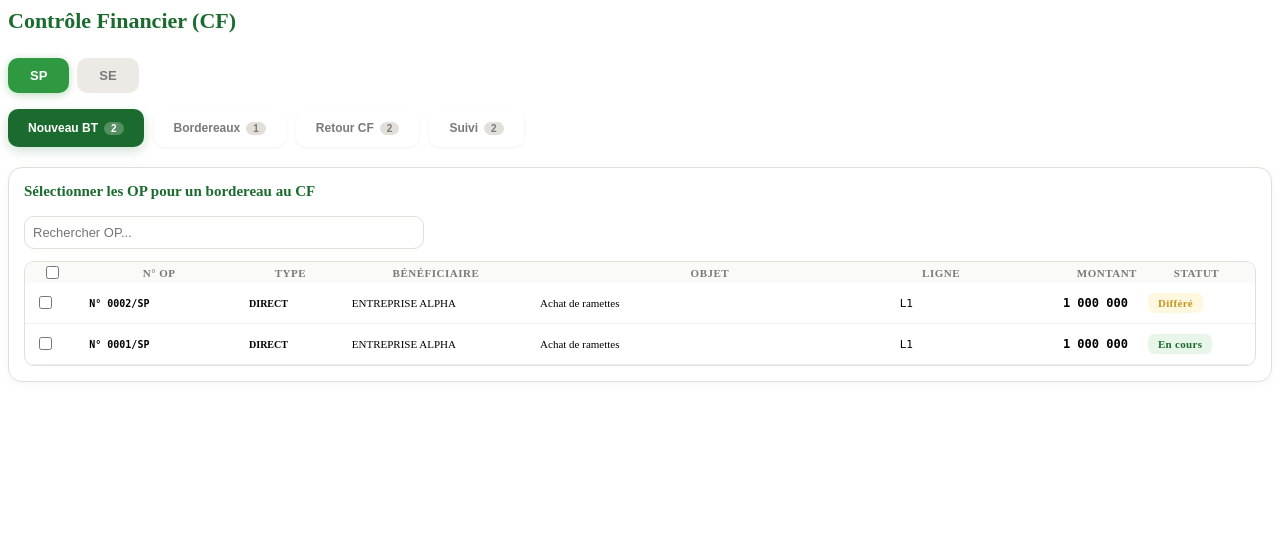
Circuit CF — transmettre un bordereau › le bordereau liste les OP qu'il porte
What coordinates should you click on to do the following:
click the button "Bordereaux 1"
I would click on:
 (220, 128)
Its box is [154,109,286,147].
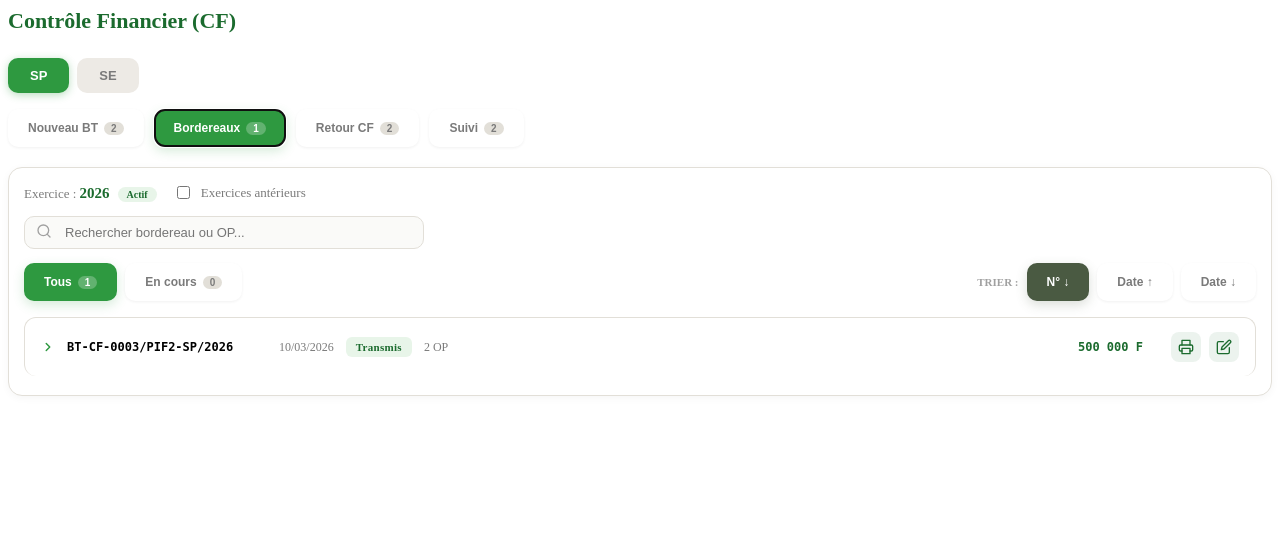
What coordinates should you click on to do the following:
click the text "BT-CF-0003/PIF2-SP/2026"
I would click on:
 (150, 347)
Its box is [67,340,233,354].
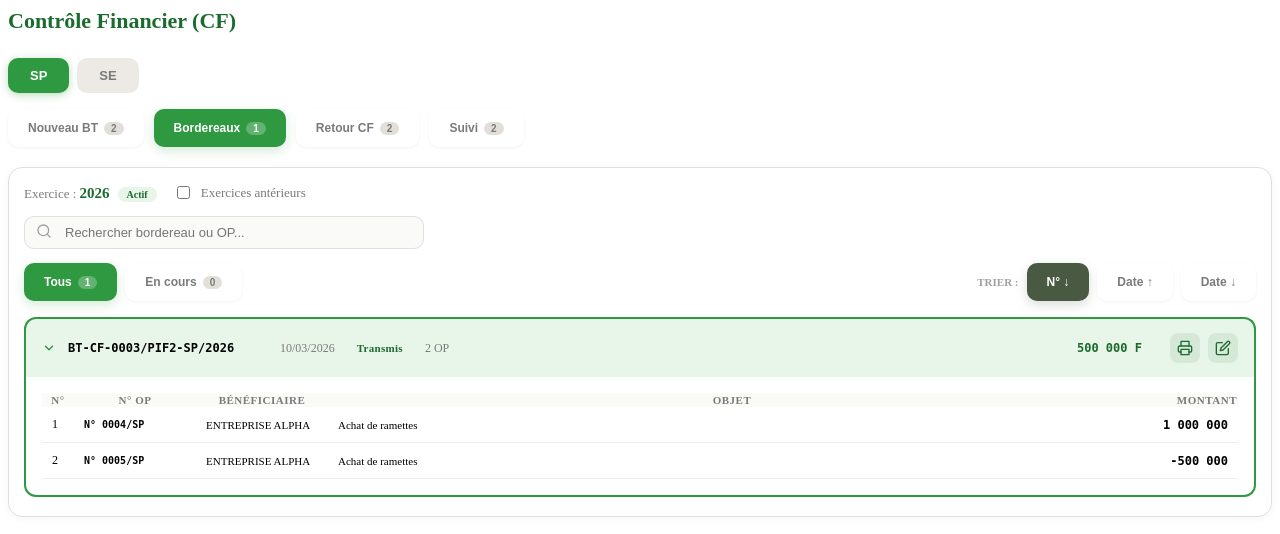
Expected: the text "N° 0004/SP" is shown, [74,407,196,442]
Expected: the text "N° 0005/SP" is shown, [74,442,196,478]
